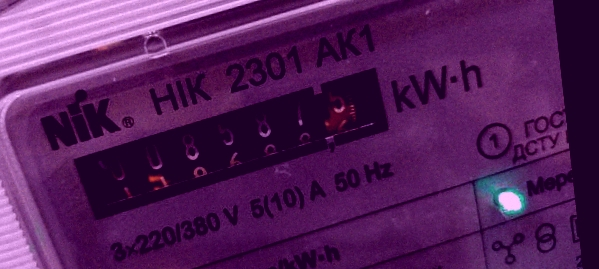0: (138, 136, 168, 173), (101, 148, 131, 183)
5: (212, 115, 239, 148), (323, 81, 348, 114)
6: (332, 115, 352, 134)
7: (285, 94, 311, 130)
8: (176, 128, 204, 162), (248, 105, 275, 140)
screen: (59, 63, 417, 223)
